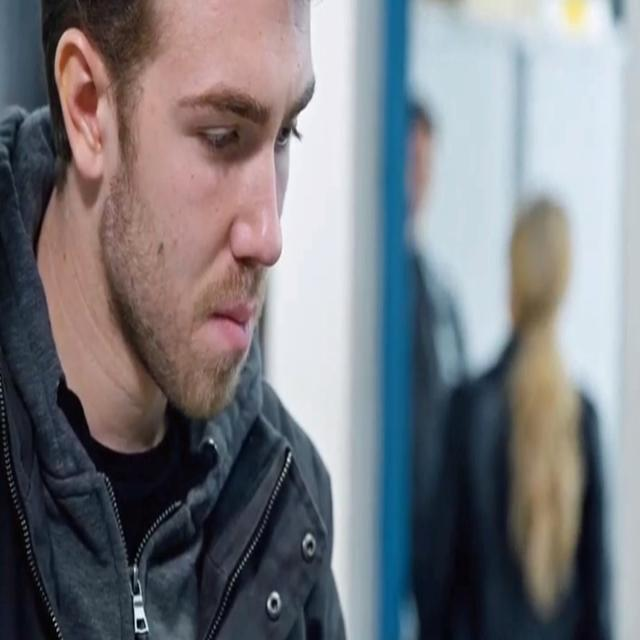human: (20, 2, 372, 640)
